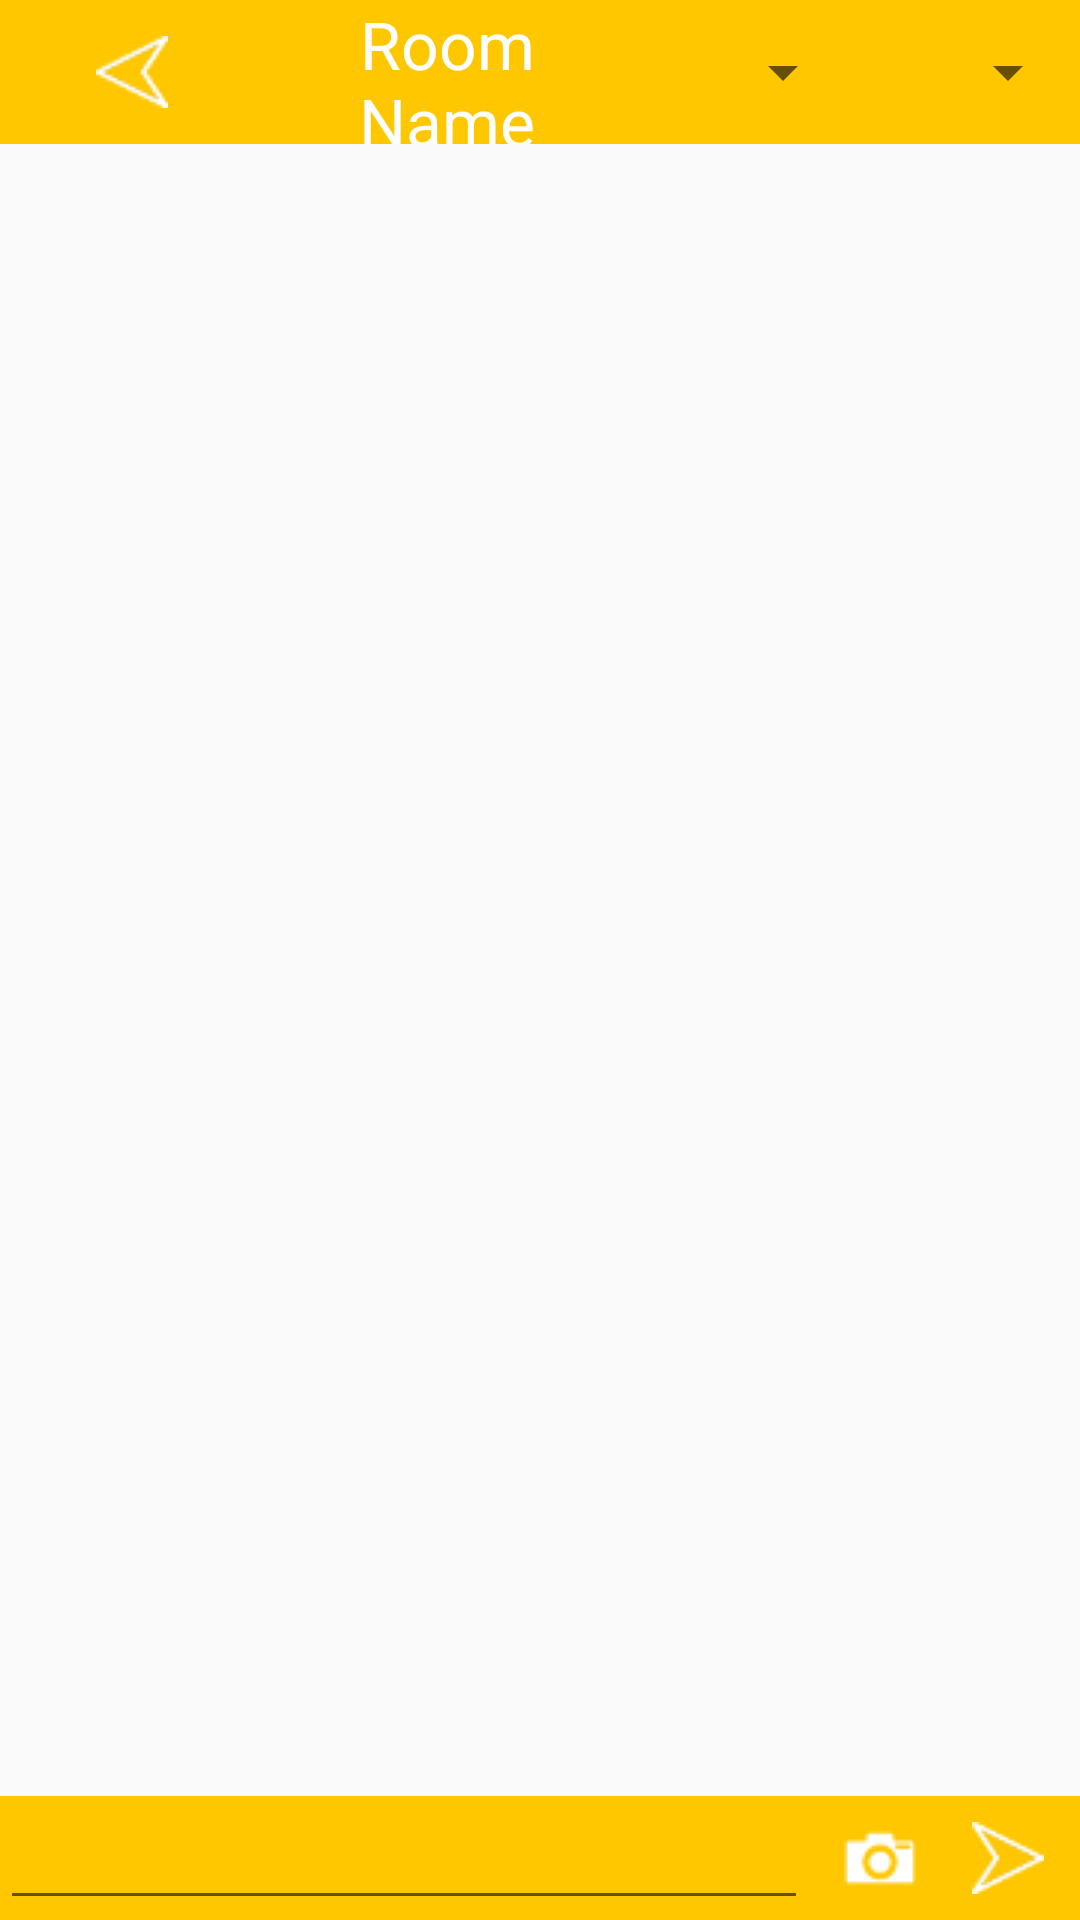

Icon click points for this 1080x1920 phone screenshot, format (x=x, y=y):
next: (x=1008, y=1858)
previous: (x=132, y=72)
